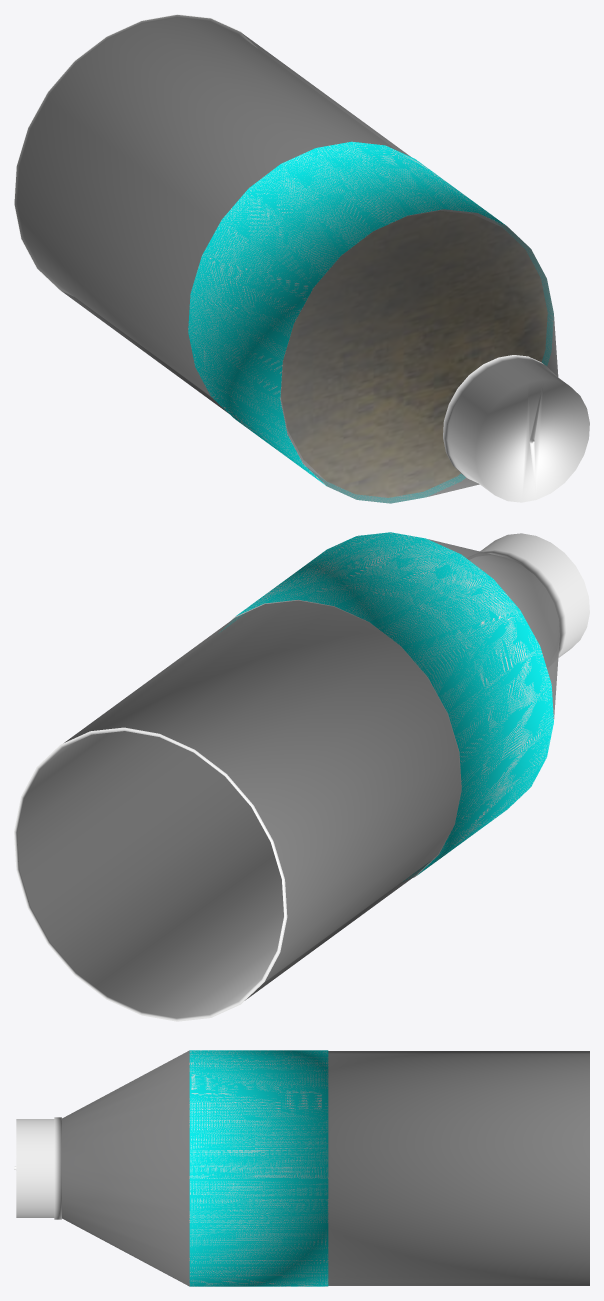
The model's file is model_scale.obj.
3 renders of one model, top to bottom at view 1: azimuth 30°, elevation 25°; view 2: azimuth 150°, elevation 25°; view 3: azimuth 270°, elevation 25°, orthographic. The views are drawn at different scales.
Visible parts, largest first — view 1: mesh1_mesh1-geometry, mesh2_mesh2-geometry; view 2: mesh1_mesh1-geometry, mesh2_mesh2-geometry; view 3: mesh1_mesh1-geometry, mesh2_mesh2-geometry.
Part boxes in pixels (x1,y1,x2,y2): mesh1_mesh1-geometry: (14,14,558,503); mesh2_mesh2-geometry: (443,355,589,502); mesh1_mesh1-geometry: (14,532,559,1021); mesh2_mesh2-geometry: (469,533,589,665); mesh1_mesh1-geometry: (62,1050,589,1286); mesh2_mesh2-geometry: (14,1117,61,1219).
Bounding box in the file's own units: 0.054 × 0.054 × 0.1311.
